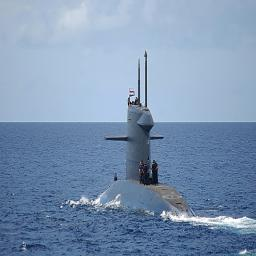submarine: (100, 51, 199, 219)
